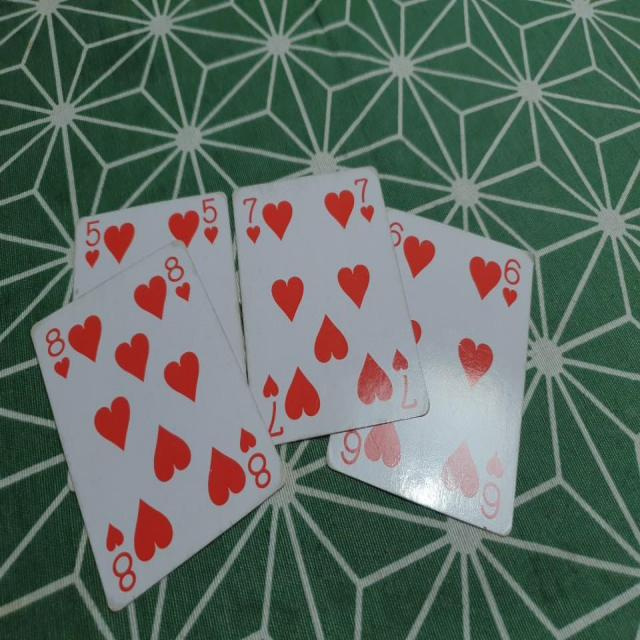5 Hearts: (71, 176, 250, 375)
6 Hearts: (320, 204, 541, 556)
7 Hearts: (232, 164, 433, 438)
8 Hearts: (35, 231, 288, 615)
